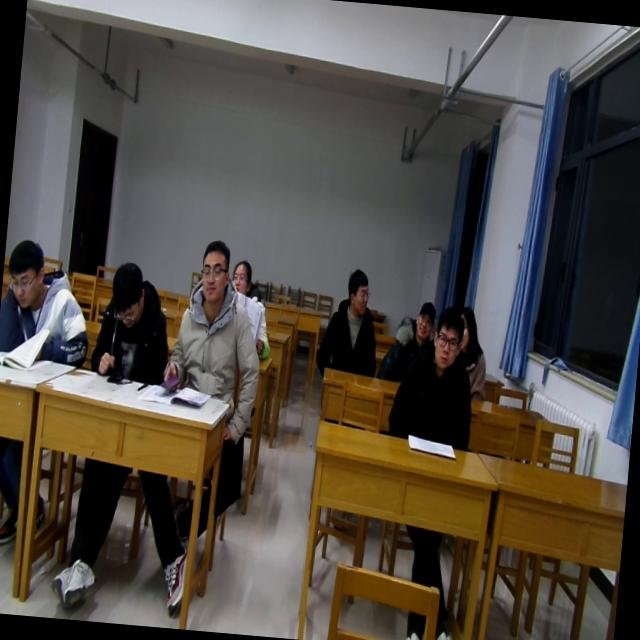bow: (0, 235, 97, 371)
down: (106, 254, 152, 328), (3, 234, 47, 308)
lookup: (193, 232, 232, 302), (426, 306, 466, 374), (408, 296, 438, 344), (226, 256, 254, 298)
sit: (158, 234, 272, 402), (384, 301, 484, 448), (88, 258, 178, 387), (314, 266, 386, 378), (224, 256, 278, 363), (376, 298, 438, 382), (449, 303, 494, 404)
